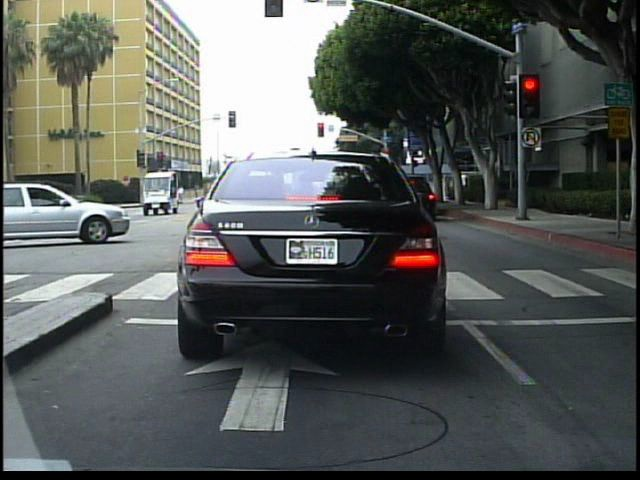person: (281, 146, 323, 283), (253, 144, 287, 278)
